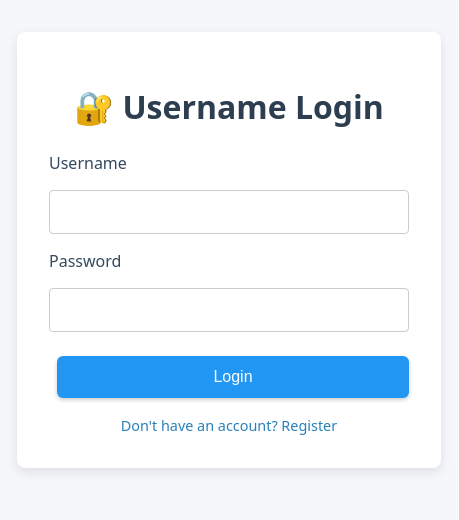
Test: LoginPage Component › clears error on new login attempt
Type "testuser" into the field labelled "Username" at {"x": 229, "y": 212}, box [49,190,409,234]
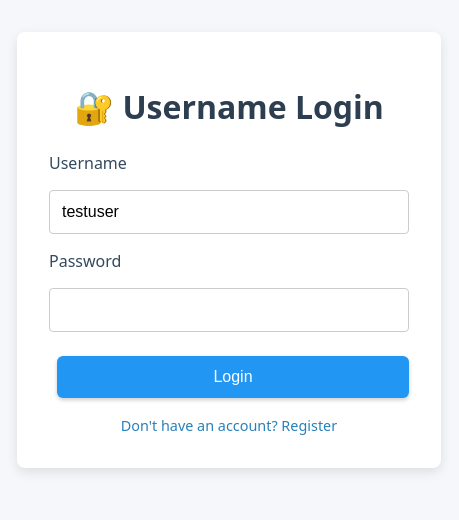
Type "wrongpassword" into the password field labelled "Password" at {"x": 229, "y": 310}, box [49,288,409,332]
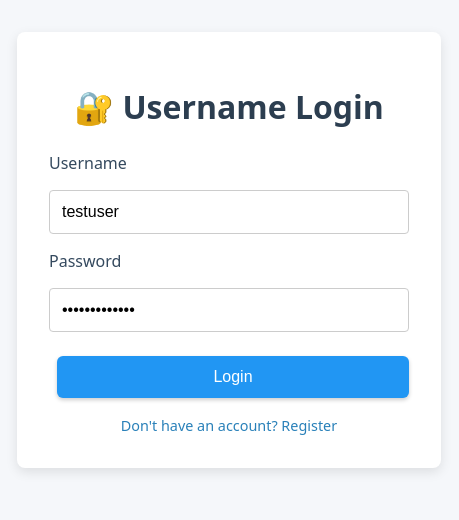
Click the button "Login" at {"x": 233, "y": 377}, box [57,356,409,398]
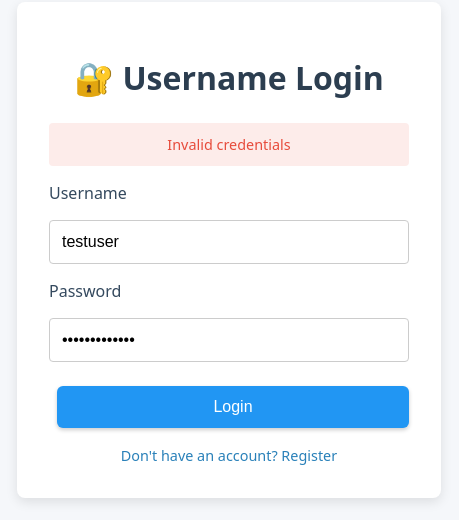
Expected: the text "Invalid credentials" is shown, [49,123,409,166]
Type "correctpassword" into the password field labelled "Password" at {"x": 229, "y": 340}, box [49,318,409,362]
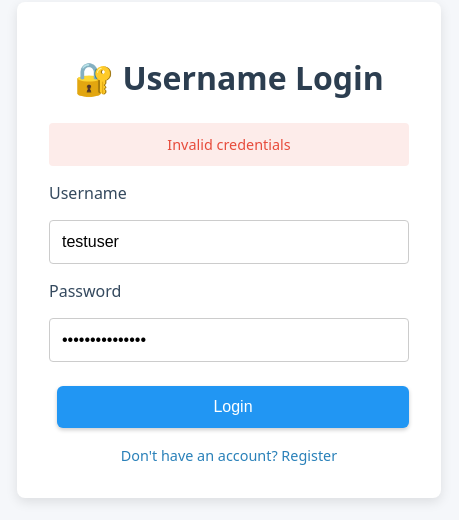
Click the button "Login" at {"x": 233, "y": 407}, box [57,386,409,428]
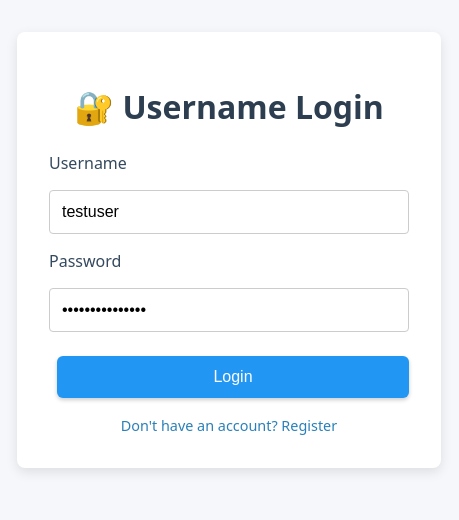
Expected: the text "Invalid credentials" is gone
